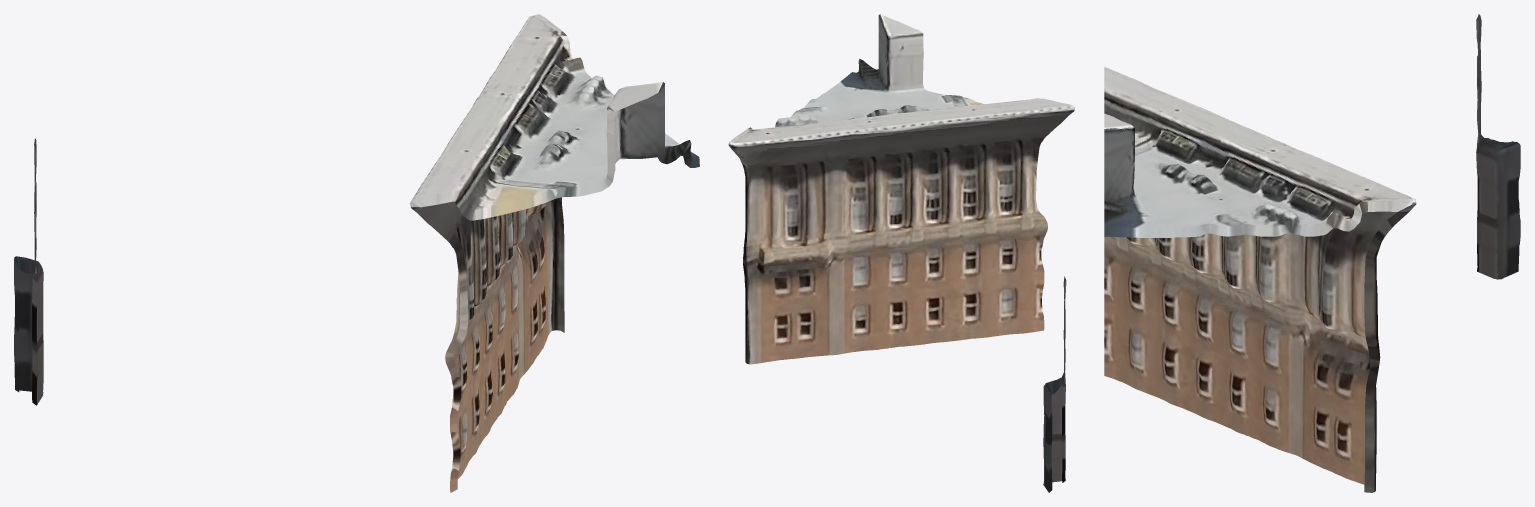
Rendered from z20-167785-405227-h1-yup-uvflip-v3-world.glb.
3 renders of one model, left to right at view 1: azimuth 30°, elevation 25°; view 2: azimuth 150°, elevation 25°; view 3: azimuth 270°, elevation 25°, orthographic. The views are drawn at different scales.
Bounding box in the file's own units: 30.24 × 22.04 × 23.96.
Materials: 1 (1 with a texture image).
